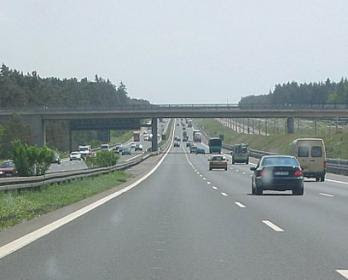car: (248, 157, 306, 192), (206, 150, 231, 172)
